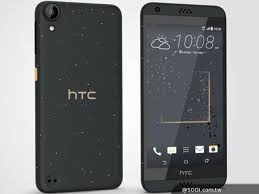htc: (137, 2, 234, 194), (29, 1, 126, 191)
